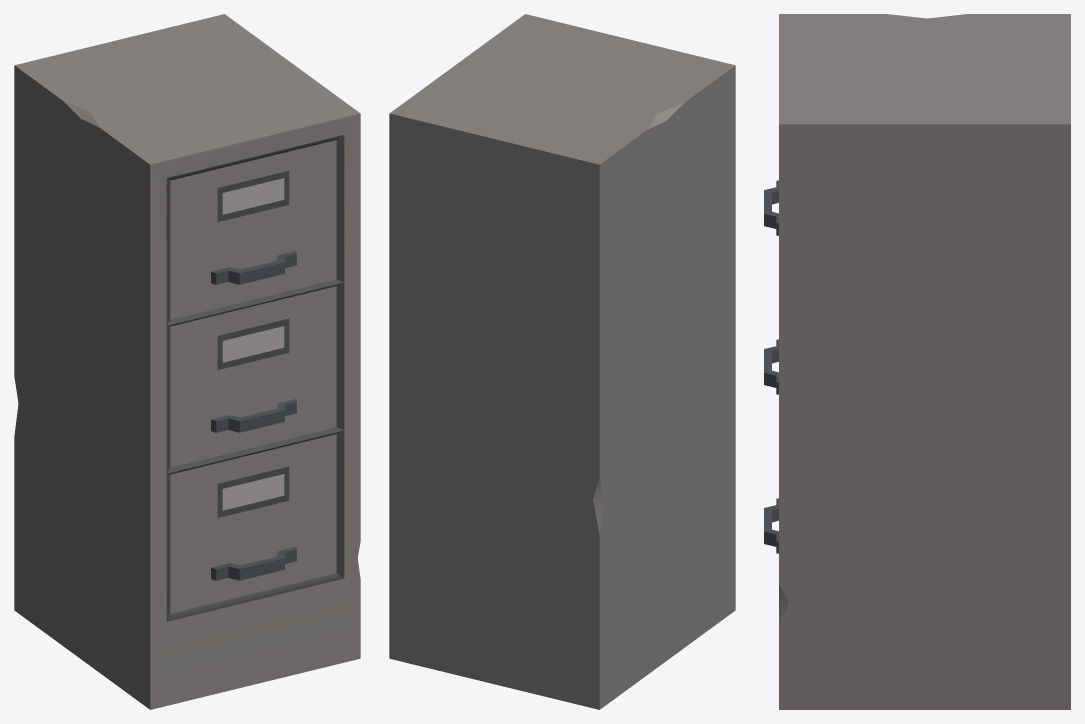
File: SM_Prop_Cabinets_03.obj
3 views of the same model, side by side, from view 1: azimuth 30°, elevation 25°; view 2: azimuth 150°, elevation 25°; view 3: azimuth 270°, elevation 25° (orthographic). The views are drawn at different scales.
Visible parts, largest first — view 1: SM_Prop_Cabinets_03_Mat_SwatchOverlay_PolygonOffice_01_Inst; view 2: SM_Prop_Cabinets_03_Mat_SwatchOverlay_PolygonOffice_01_Inst; view 3: SM_Prop_Cabinets_03_Mat_SwatchOverlay_PolygonOffice_01_Inst.
Part boxes in pixels (x1=…): SM_Prop_Cabinets_03_Mat_SwatchOverlay_PolygonOffice_01_Inst: x1=14, y1=14, x2=360, y2=709; SM_Prop_Cabinets_03_Mat_SwatchOverlay_PolygonOffice_01_Inst: x1=389, y1=14, x2=735, y2=709; SM_Prop_Cabinets_03_Mat_SwatchOverlay_PolygonOffice_01_Inst: x1=764, y1=14, x2=1070, y2=709.
Size of the model in its own units: 0.4799 by 1.19 by 0.5644.
Materials: 1 (1 with a texture image).
